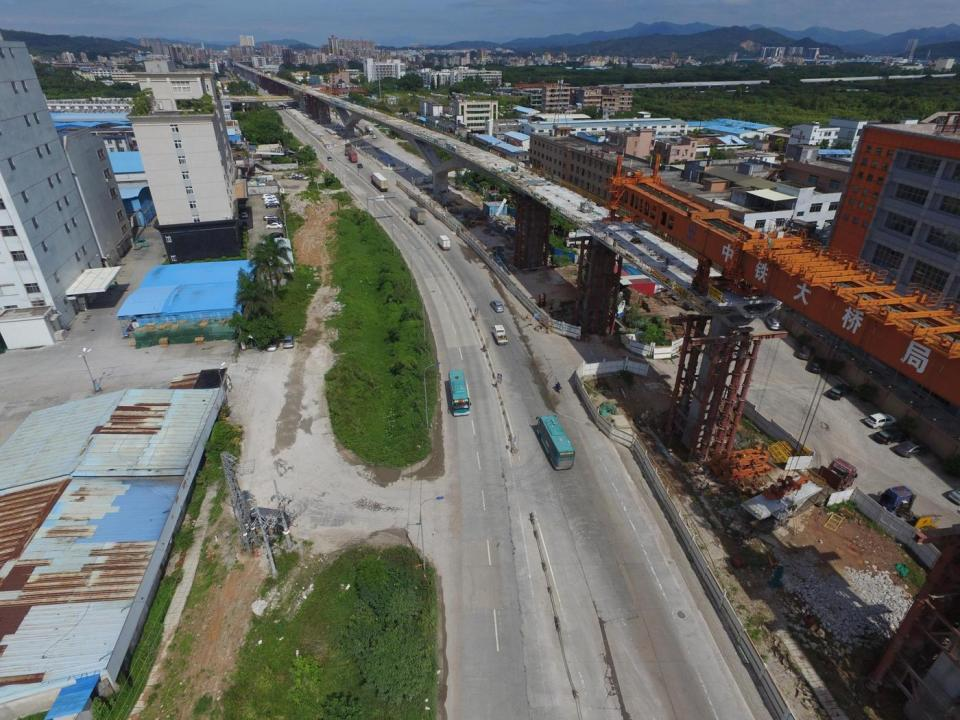bus: (537, 414, 574, 470), (449, 370, 472, 417)
car: (875, 429, 911, 445), (897, 442, 930, 459), (864, 414, 895, 430), (828, 383, 854, 401), (798, 344, 814, 362), (811, 358, 825, 374), (266, 335, 278, 352), (766, 318, 781, 330), (283, 334, 294, 348), (491, 301, 505, 312), (268, 232, 284, 240), (266, 223, 282, 230), (263, 214, 279, 220), (261, 193, 276, 199), (265, 202, 280, 208), (264, 199, 278, 204), (263, 198, 279, 202), (268, 220, 282, 224), (241, 211, 249, 218), (250, 170, 264, 174), (357, 164, 363, 169), (326, 157, 332, 161), (372, 135, 376, 139)
truck: (737, 460, 855, 534), (880, 485, 960, 566), (614, 278, 654, 300), (370, 173, 388, 192), (491, 326, 507, 346), (409, 206, 426, 224), (437, 235, 450, 250), (348, 150, 357, 163), (344, 143, 350, 155)
